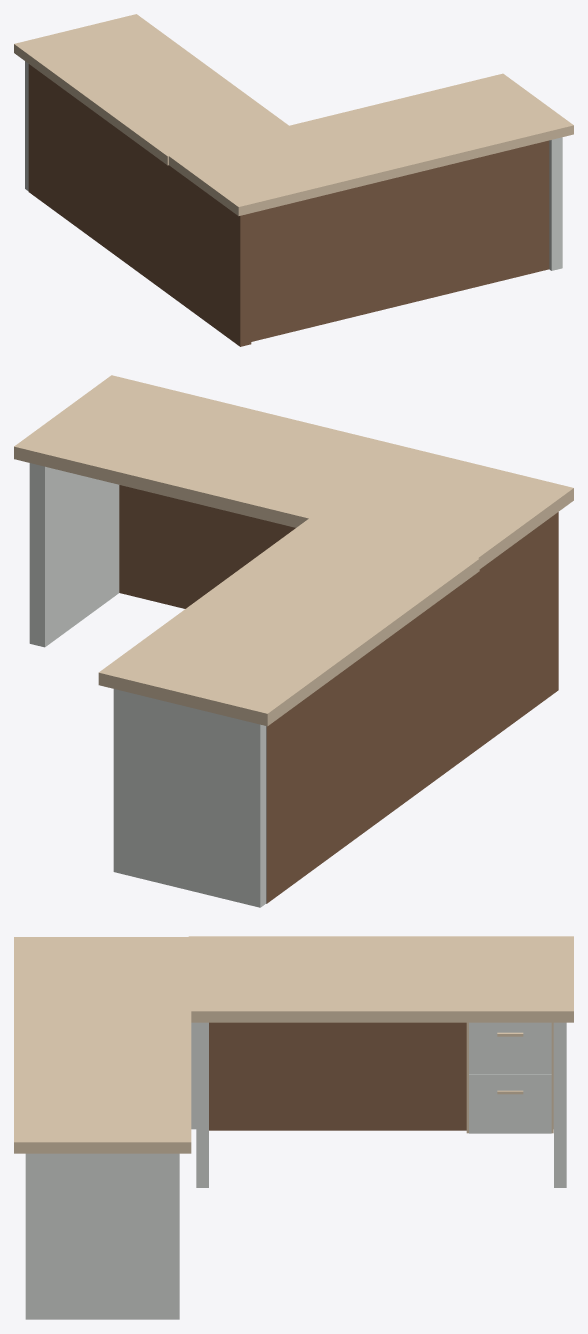
Rendered from L-Shaped_WorkDesk.fbx.
3 views of the same model, one above another, from view 1: azimuth 30°, elevation 25°; view 2: azimuth 150°, elevation 25°; view 3: azimuth 270°, elevation 25° (orthographic). The views are drawn at different scales.
Visible parts, largest first — view 1: Cube.000; view 2: Cube.000; view 3: Cube.000.
Boxes of the visible parts, bbox=[...] form: Cube.000: bbox=[14, 14, 573, 346]; Cube.000: bbox=[14, 375, 573, 907]; Cube.000: bbox=[14, 936, 573, 1319].
Size of the model in its own units: 479 by 197 by 551.
